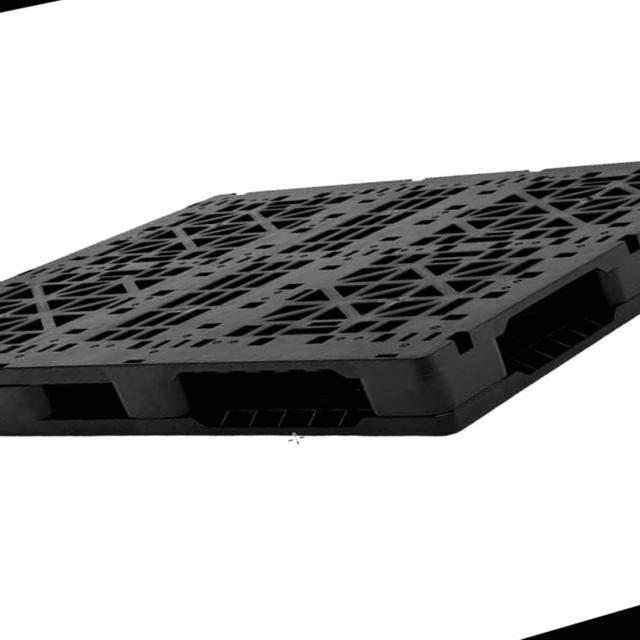non-igps: (1, 153, 640, 449)
